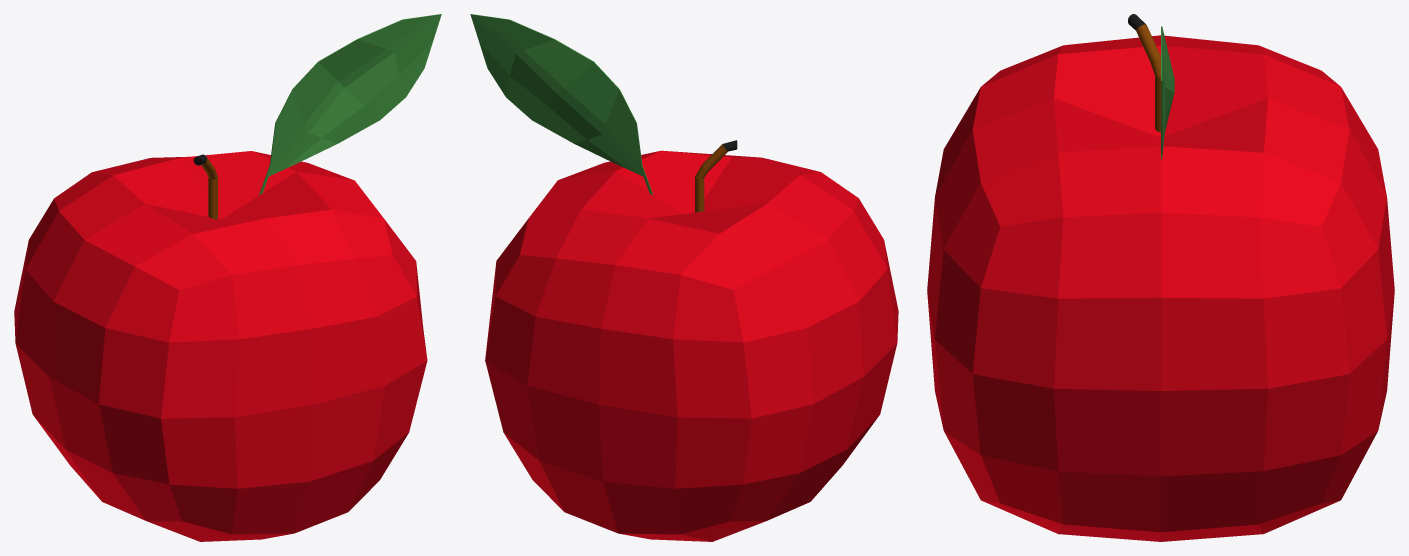
The model's file is Low poly apple.fbx.
3 views of the same model, side by side, from view 1: azimuth 30°, elevation 25°; view 2: azimuth 150°, elevation 25°; view 3: azimuth 270°, elevation 25° (orthographic). The views are drawn at different scales.
Visible parts, largest first — view 1: Apple, Leaf, Stem; view 2: Apple, Leaf, Stem; view 3: Apple, Stem, Leaf.
Part boxes in pixels (bbox=[...]): Apple: bbox=[14, 151, 427, 541]; Leaf: bbox=[259, 14, 441, 194]; Stem: bbox=[193, 154, 217, 219]; Apple: bbox=[485, 150, 898, 541]; Leaf: bbox=[470, 14, 652, 195]; Stem: bbox=[695, 140, 737, 212]; Apple: bbox=[927, 35, 1394, 541]; Stem: bbox=[1128, 14, 1166, 132]; Leaf: bbox=[1161, 26, 1174, 159].
Bounding box in the file's own units: 60.47 × 66.31 × 48.64.
